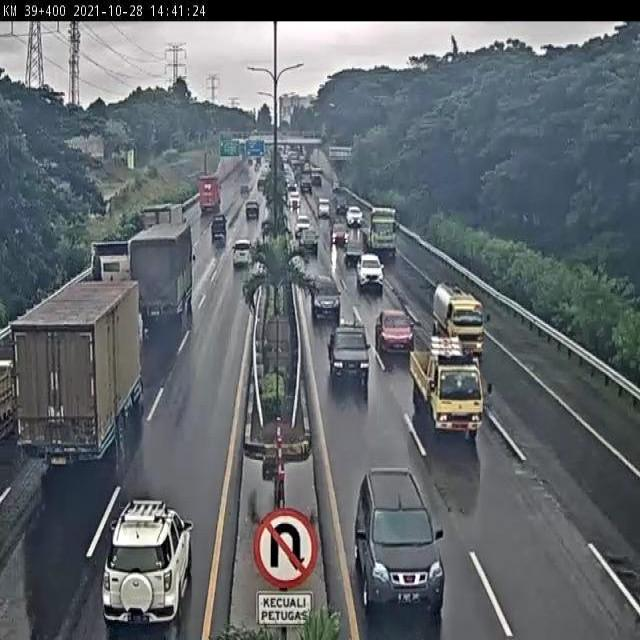big truck: (83, 236, 136, 307)
car: (353, 467, 445, 617), (101, 498, 195, 626), (327, 322, 370, 390), (376, 309, 416, 359), (310, 273, 342, 319), (356, 253, 385, 292), (231, 238, 255, 266)
mid truck: (12, 276, 144, 465), (128, 222, 194, 322), (142, 202, 185, 246)
small truck: (410, 336, 486, 437)
truck-m-: (431, 280, 486, 363)
